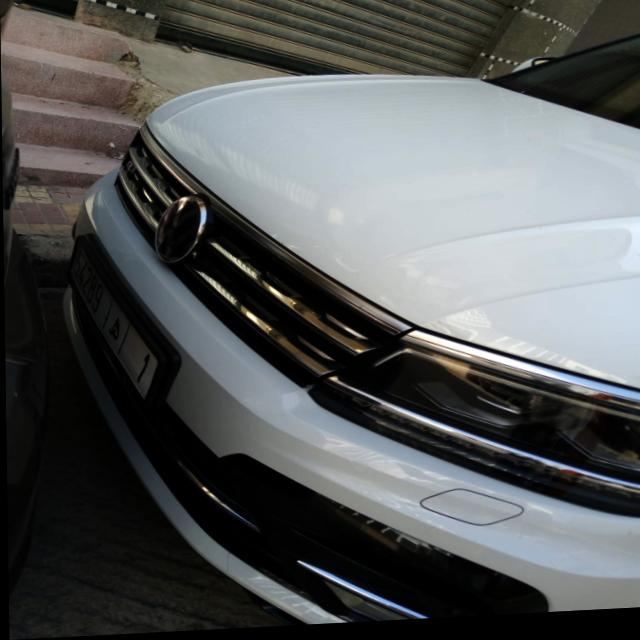License-Plate: (69, 247, 159, 403)
